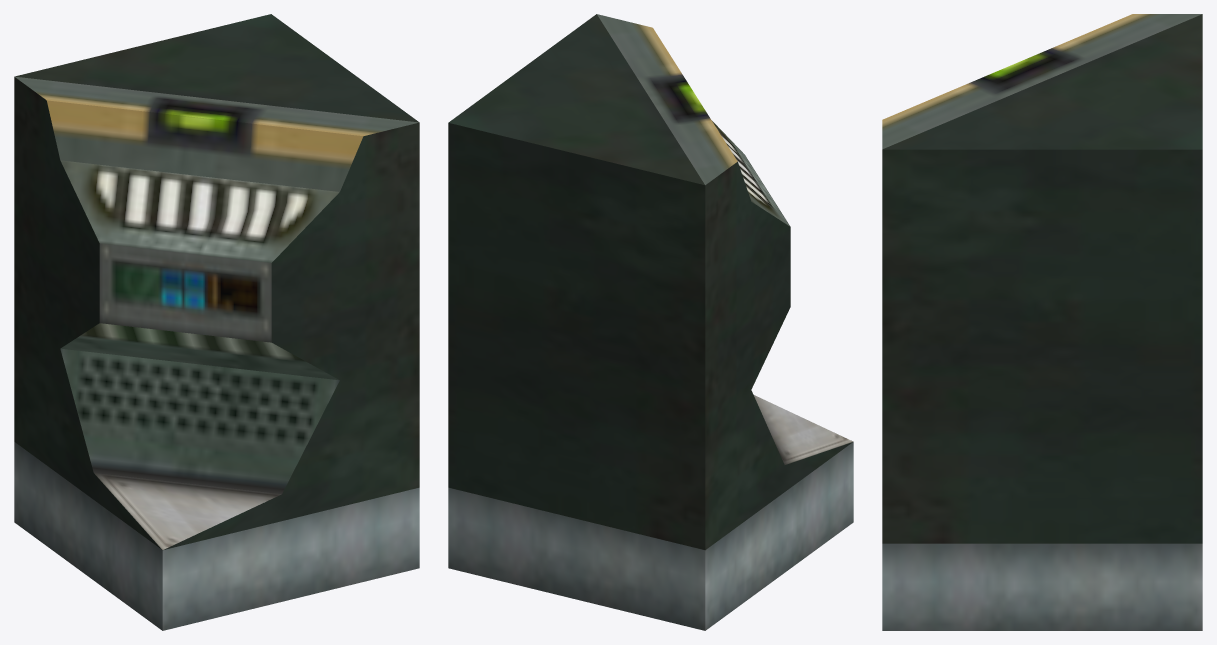
The model's file is ind_wall_corner.obj.
The picture shows the model from 3 angles, left to right: view 1: azimuth 30°, elevation 25°; view 2: azimuth 150°, elevation 25°; view 3: azimuth 270°, elevation 25°; orthographic projection. The views are drawn at different scales.
Parts seen in each view (by area): view 1: wall_; view 2: wall_; view 3: wall_.
Boxes of the visible parts, <box> form: wall_: <box>14,14,419,630</box>; wall_: <box>448,14,853,630</box>; wall_: <box>882,14,1202,630</box>.
Bounding box in the file's own units: 1 × 1.66 × 1.
1 material, 1 textured.
